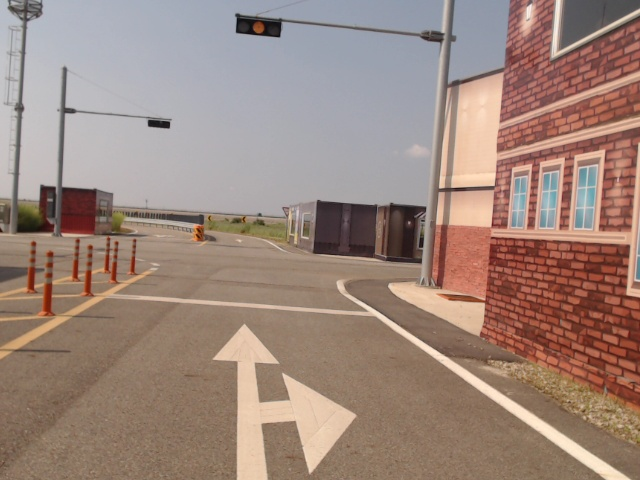orange_3: (238, 14, 283, 38)
